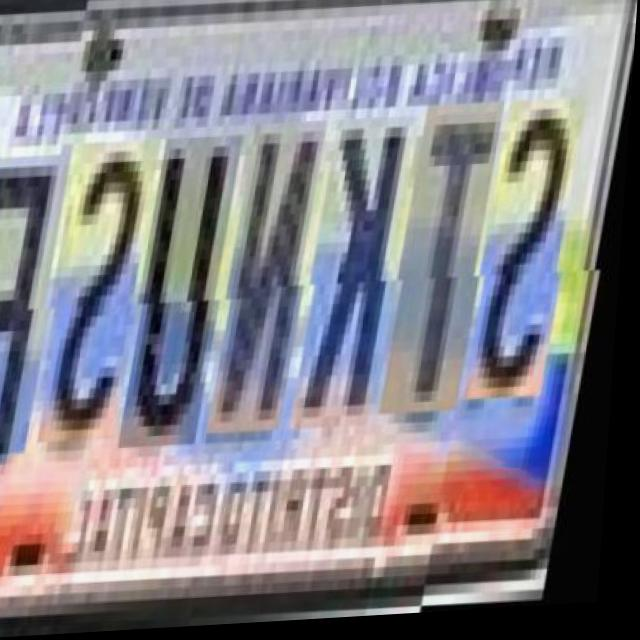f: (0, 144, 80, 456)
k: (301, 120, 422, 434)
n: (219, 124, 334, 437)
s: (49, 142, 169, 444), (473, 115, 591, 416)
t: (391, 107, 511, 420)
u: (130, 137, 250, 451)
